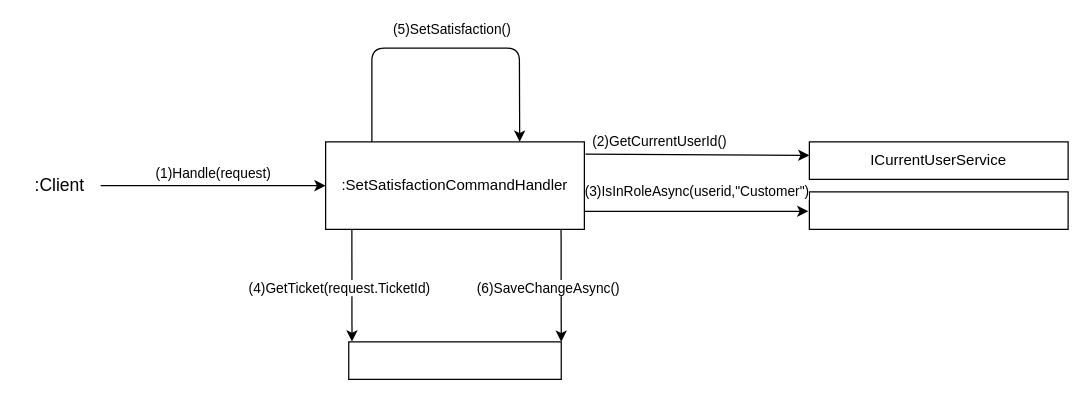
The diagram is 1090 pixels wide and 401 high, and some of its shapes have lost their labels. The shapes that lost their labels are listed below. From the top down, each one's centre as x and y in pixels, then its label:
At pixel 938 210: "IIdentityService".
At pixel 454 360: "IApplicationDbContext".
